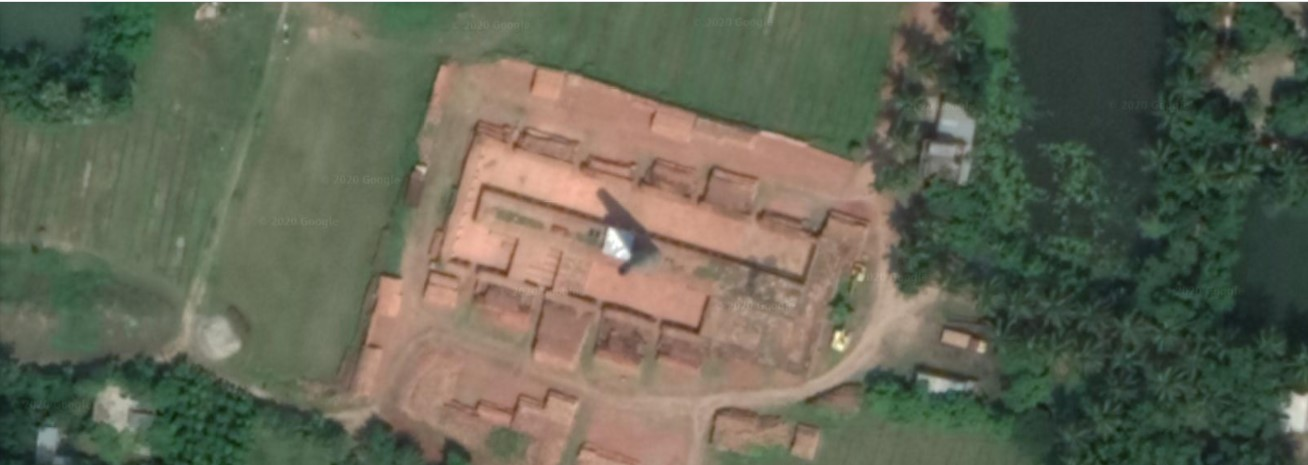kiln: (455, 104, 846, 359)
